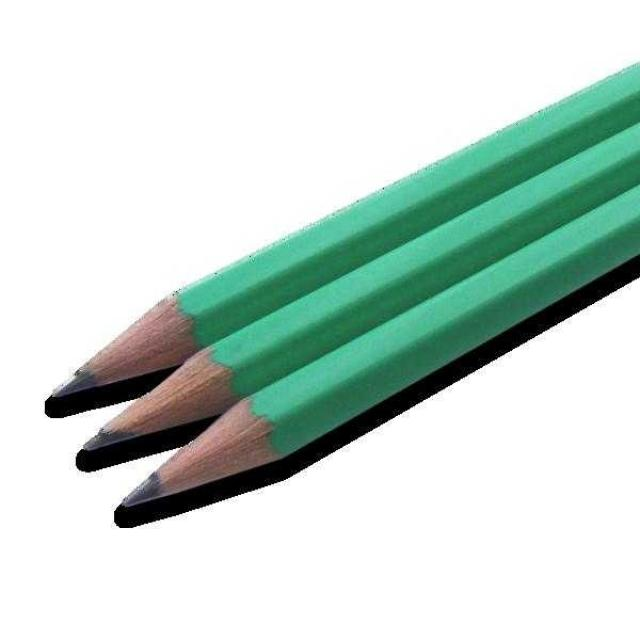pencil: (27, 54, 639, 421), (52, 119, 639, 501), (87, 183, 639, 528)
